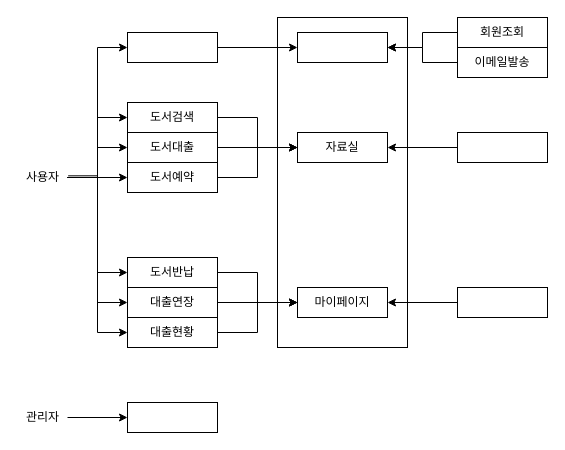
Some shapes in this 565 by 450 pixel diagram are drawn without their labels. The shapes that lost their labels are listed below. From the top down, each one's centre as x and y in pixels, then its label:
At [172,47]: "로그인".
At [342,47]: "회원정보".
At [502,147]: "자료관리".
At [502,302]: "대출관리".
At [172,417]: "도서대출기록".
